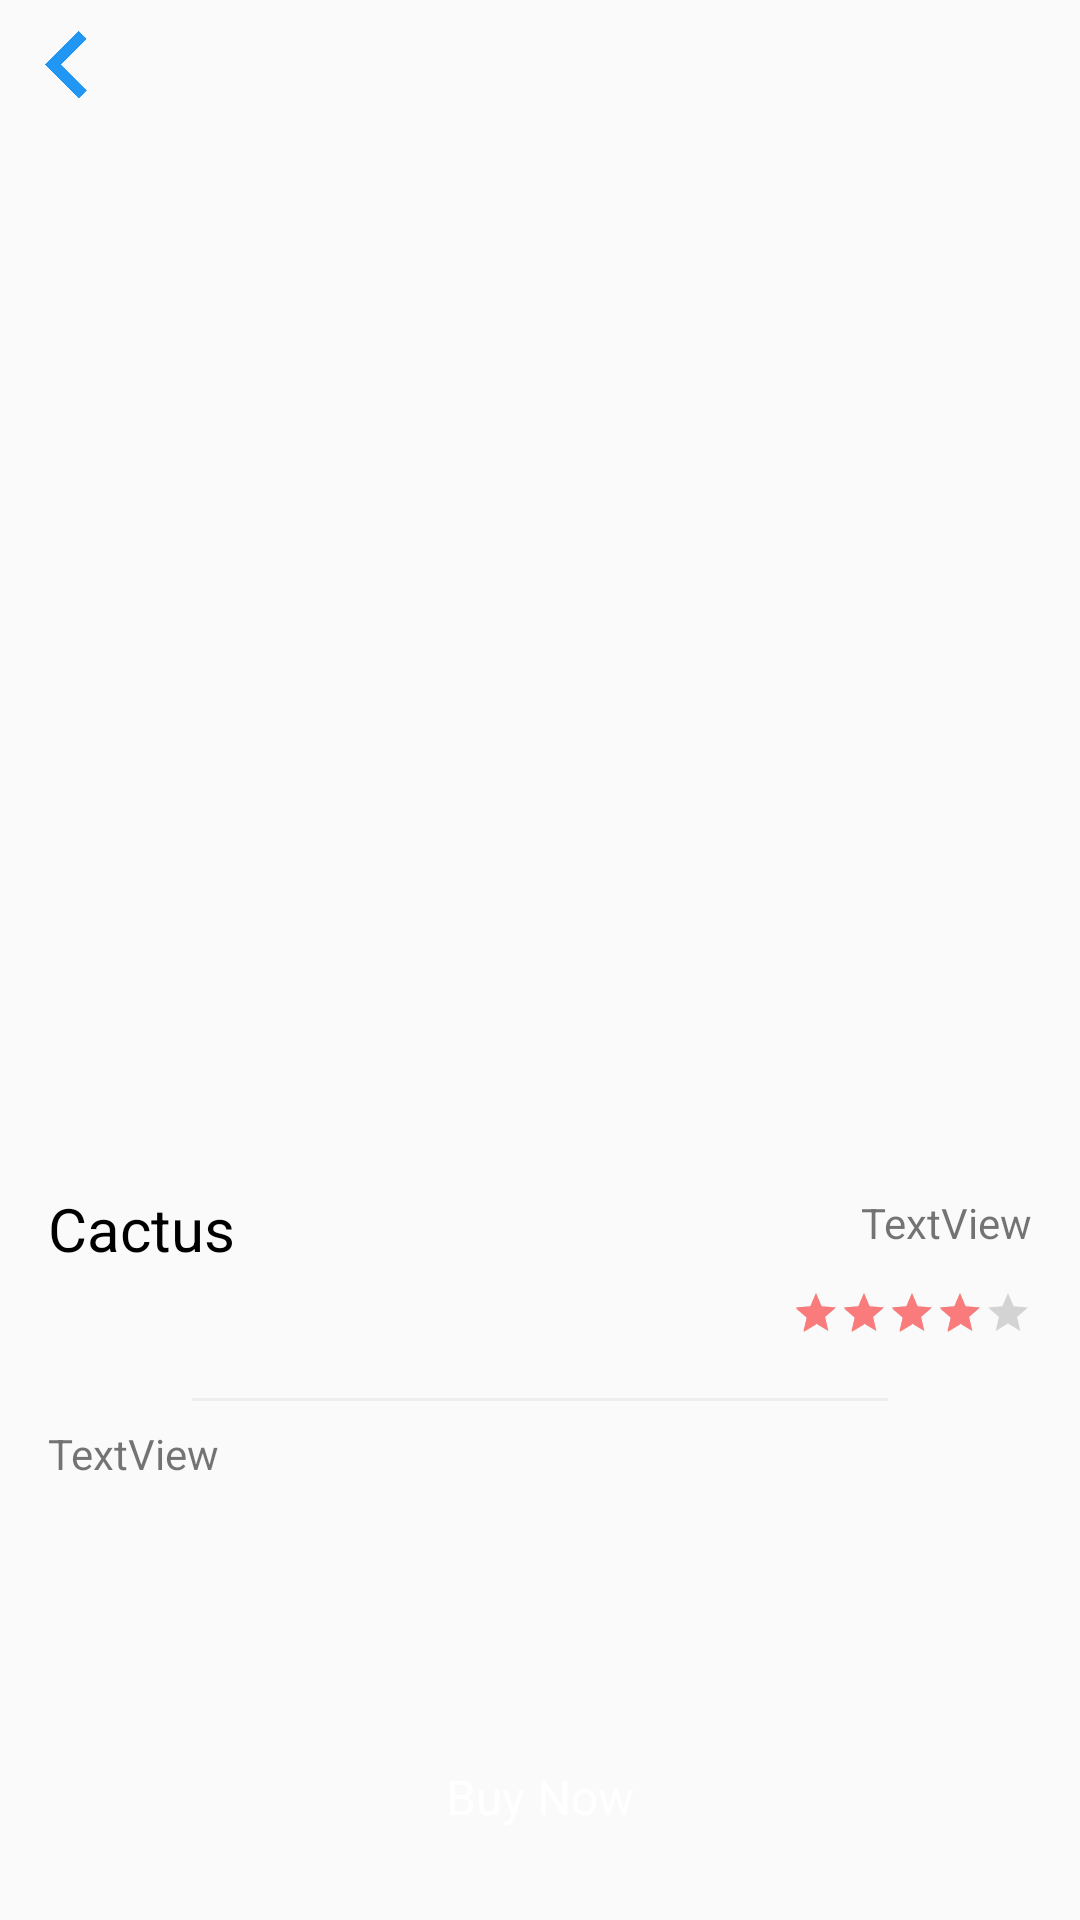

Icon bounding boxes for this 1080px x 1920px phone screenshot, format box=[x1, y1, x2, y2]:
keyboard arrow left: box=[45, 31, 87, 98]
